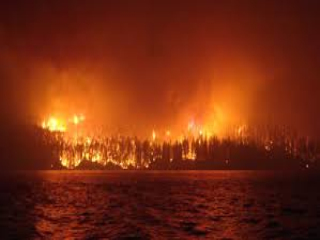fire: (51, 135, 224, 175), (39, 103, 90, 131)
